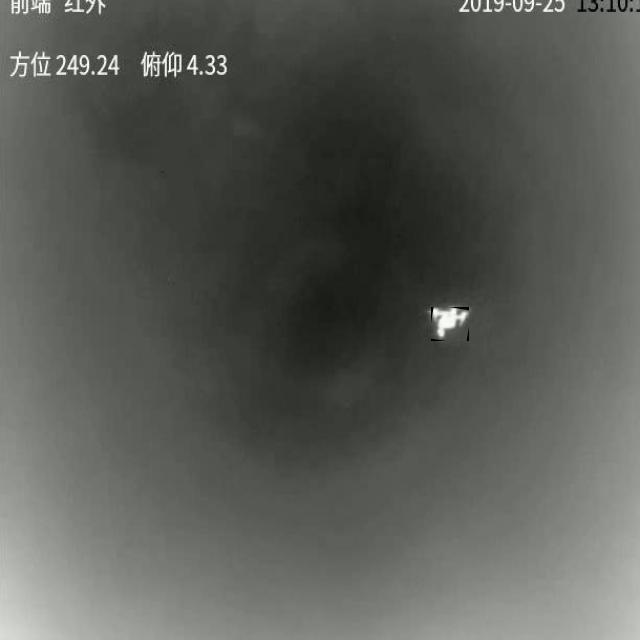drone: (432, 307, 469, 341)
